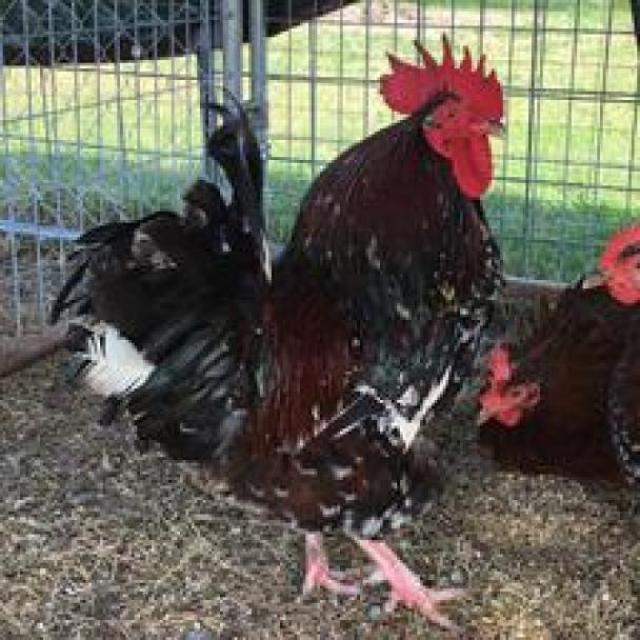Chicken: (47, 52, 526, 619)
